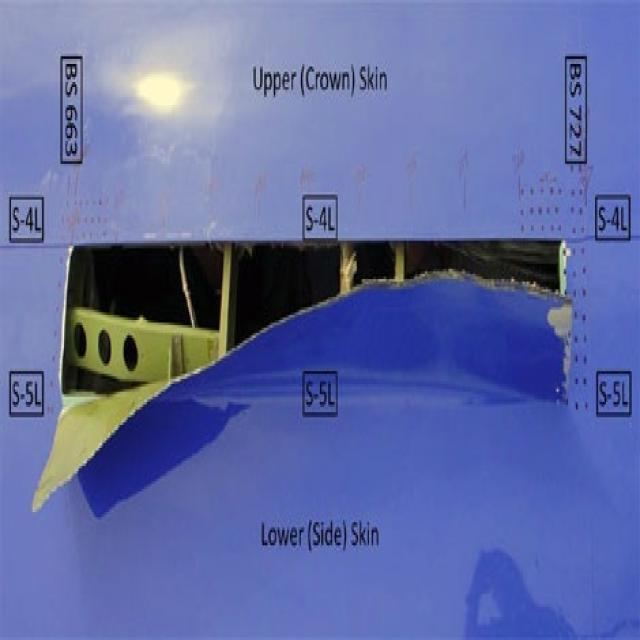crack: (27, 233, 572, 523)
